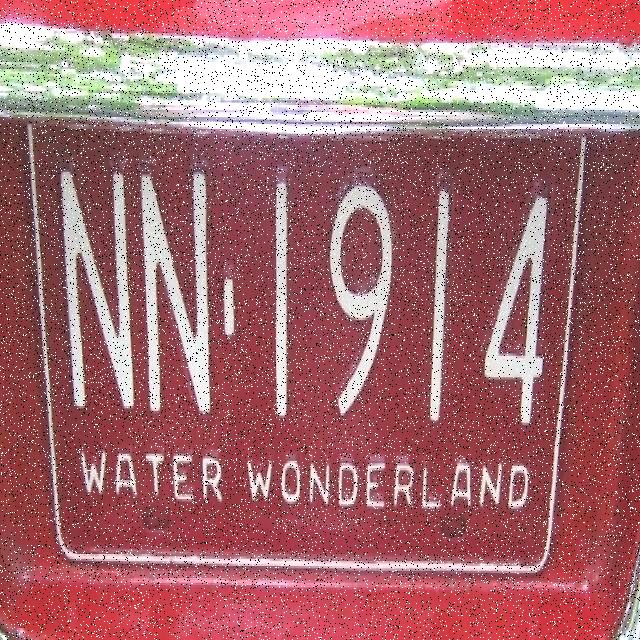licenseplate: (15, 50, 603, 629)
